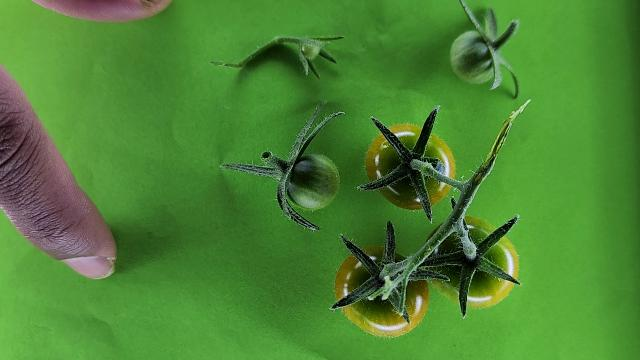Fruit Bud: (300, 41, 322, 60)
Fruit Maturation: (285, 152, 342, 211), (450, 33, 496, 84)
Fully Grown: (420, 216, 520, 309), (336, 245, 429, 336), (364, 123, 455, 209)
